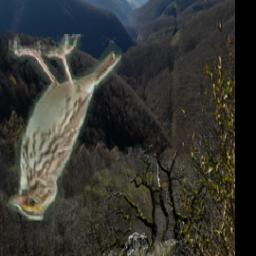Sparrow: (9, 35, 122, 222)
